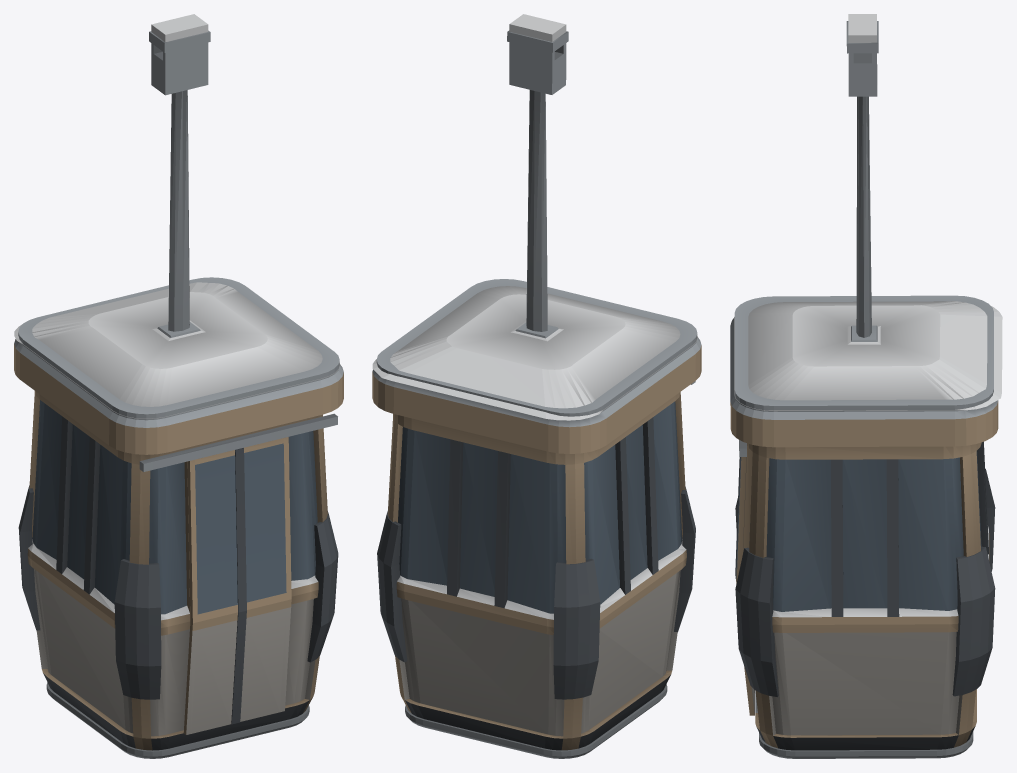
The model's file is gondola.glb.
The picture shows the model from 3 angles, left to right: view 1: azimuth 30°, elevation 25°; view 2: azimuth 150°, elevation 25°; view 3: azimuth 270°, elevation 25°; orthographic projection.
Parts seen in each view (by area): view 1: gondola; view 2: gondola; view 3: gondola.
Boxes of the visible parts, left/top/right/bottom form: gondola: left=14, top=14, right=343, bottom=758; gondola: left=372, top=14, right=701, bottom=758; gondola: left=730, top=14, right=1002, bottom=758.
Size of the model in its own units: 1.6 by 4.55 by 1.63.
